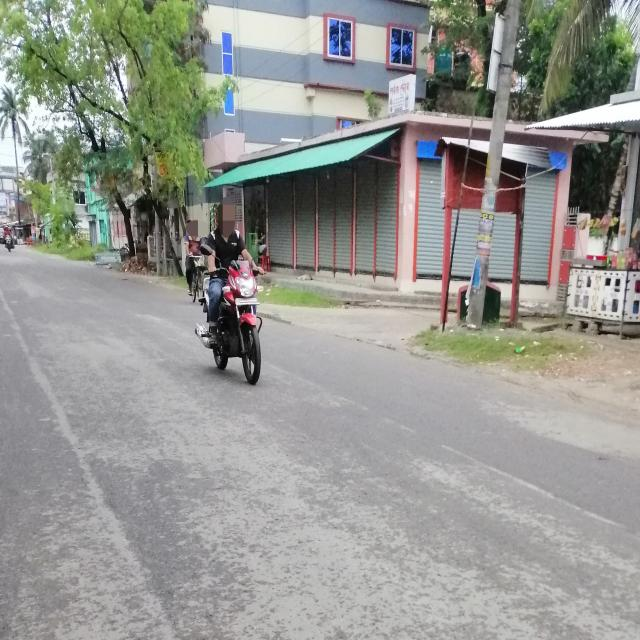Motorbike: (195, 234, 285, 392)
